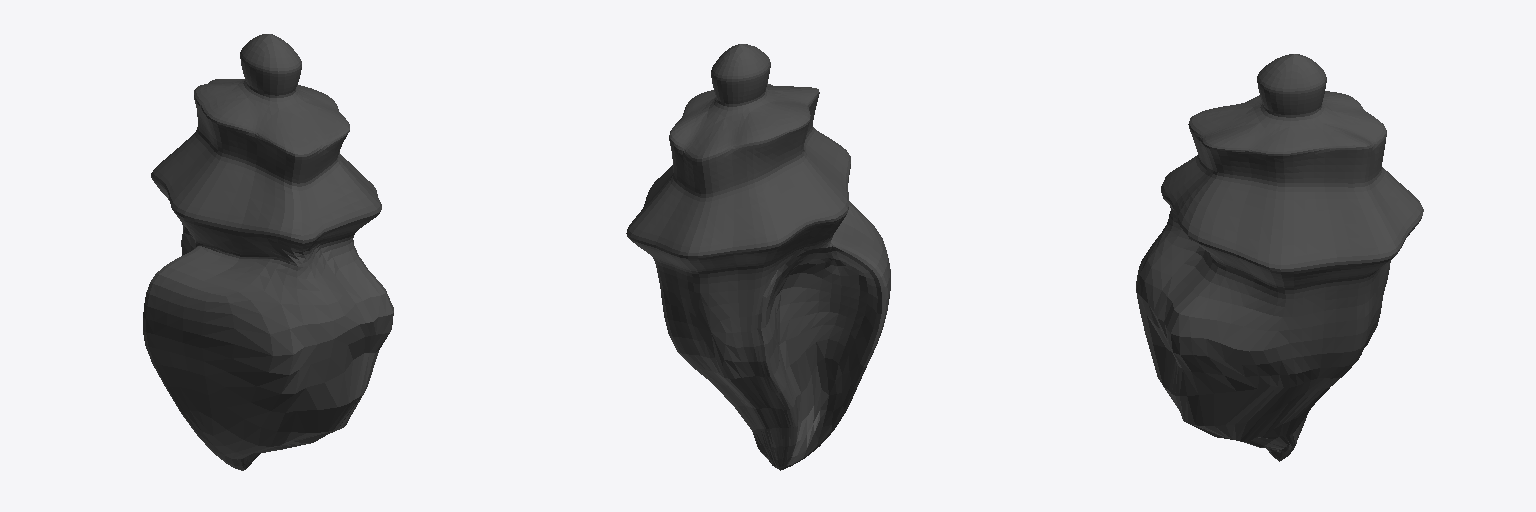
Rendered from mermaid_weapon_high.obj.
The picture shows the model from 3 angles: view 1: azimuth 30°, elevation 25°; view 2: azimuth 150°, elevation 25°; view 3: azimuth 270°, elevation 25°; orthographic projection.
Parts seen in each view (by area): view 1: Plane001; view 2: Plane001; view 3: Plane001.
Boxes of the visible parts, box(x1,y1,x2,y2) form: Plane001: box(143, 34, 393, 470); Plane001: box(626, 44, 890, 470); Plane001: box(1136, 54, 1423, 461).
Size of the model in its own units: 44 by 77.38 by 47.67.